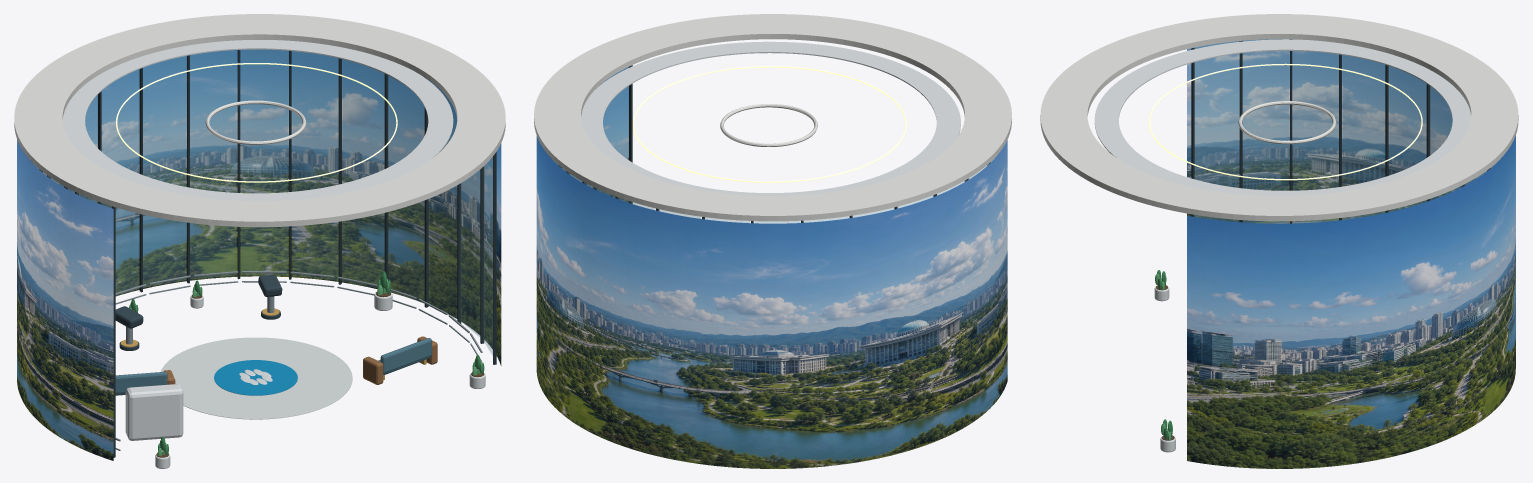
The model's file is observatory.glb.
The picture shows the model from 3 angles, left to right: view 1: azimuth 30°, elevation 25°; view 2: azimuth 150°, elevation 25°; view 3: azimuth 270°, elevation 25°; orthographic projection. The views are drawn at different scales.
Visible parts, largest first — view 1: Backdrop_Sejong_city_panorama, Roof_annulus, Ceiling_recess_ring, Floor_inner_inlay, Window_glass_13, Window_glass_11, Window_glass_12, Window_glass_10, Window_glass_14, Window_glass_15, Window_glass_09, Window_glass_16 (+19 smaller); view 2: Backdrop_Sejong_city_panorama, Roof_annulus, Ceiling_recess_ring, Window_glass_18, Ceiling_LED_inner, Ceiling_center_ring; view 3: Backdrop_Sejong_city_panorama, Roof_annulus, Ceiling_recess_ring, Window_glass_02, Window_glass_03, Window_glass_01, Window_glass_04, Window_glass_05, Ceiling_LED_inner, Window_glass_06, Ceiling_center_ring.
Boxes of the visible parts, x1=… form: Backdrop_Sejong_city_panorama: x1=17, y1=49, x2=501, y2=460; Roof_annulus: x1=14, y1=14, x2=505, y2=227; Ceiling_recess_ring: x1=62, y1=40, x2=453, y2=201; Floor_inner_inlay: x1=160, y1=337, x2=352, y2=419; Window_glass_13: x1=292, y1=51, x2=338, y2=280; Window_glass_11: x1=190, y1=50, x2=236, y2=278; Window_glass_12: x1=241, y1=50, x2=287, y2=275; Window_glass_10: x1=143, y1=56, x2=185, y2=287; Window_glass_14: x1=342, y1=59, x2=384, y2=287; Window_glass_15: x1=389, y1=76, x2=424, y2=300; Window_glass_09: x1=102, y1=70, x2=138, y2=295; Window_glass_16: x1=429, y1=81, x2=456, y2=318; Backdrop_Sejong_city_panorama: x1=536, y1=67, x2=1007, y2=468; Roof_annulus: x1=534, y1=14, x2=1011, y2=221; Ceiling_recess_ring: x1=581, y1=41, x2=960, y2=195; Window_glass_18: x1=597, y1=67, x2=628, y2=202; Ceiling_LED_inner: x1=632, y1=66, x2=906, y2=182; Ceiling_center_ring: x1=720, y1=104, x2=817, y2=146; Backdrop_Sejong_city_panorama: x1=1187, y1=39, x2=1515, y2=468; Roof_annulus: x1=1040, y1=14, x2=1518, y2=221; Ceiling_recess_ring: x1=1094, y1=39, x2=1471, y2=195; Window_glass_02: x1=1243, y1=39, x2=1288, y2=222; Window_glass_03: x1=1293, y1=51, x2=1338, y2=222; Window_glass_01: x1=1195, y1=41, x2=1238, y2=221; Window_glass_04: x1=1343, y1=55, x2=1384, y2=219; Window_glass_05: x1=1389, y1=66, x2=1426, y2=211; Ceiling_LED_inner: x1=1148, y1=63, x2=1422, y2=180; Window_glass_06: x1=1430, y1=87, x2=1460, y2=199; Ceiling_center_ring: x1=1238, y1=101, x2=1336, y2=144.
Size of what is drawn, in the model's own units: 30.5 by 18.34 by 30.5.
Materials: 18 (1 with a texture image).
